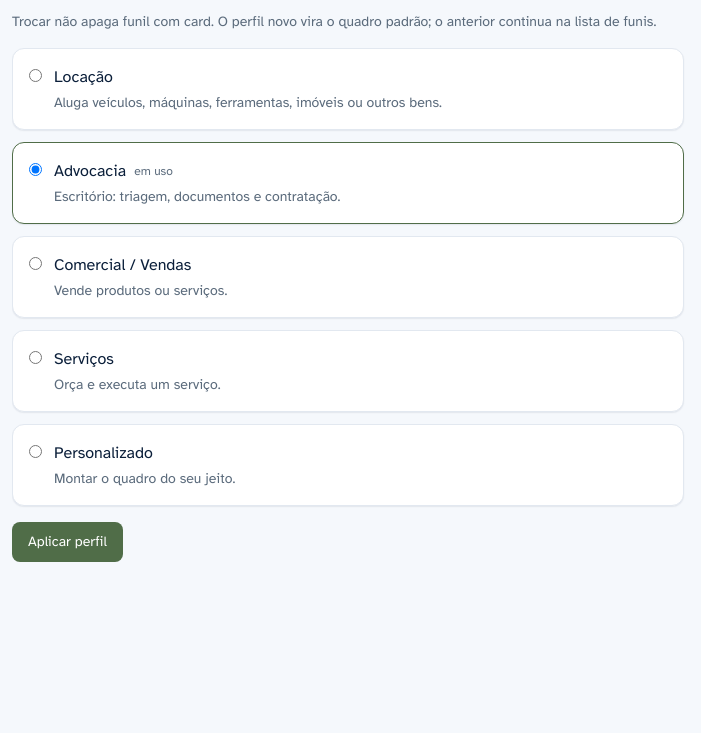
troca de Ready Model › quando o funil do modelo já existe, diz isso
Click the radio button labelled "Comercial / Vendas Vende produtos ou serviços.": [36, 264] box [29,257,42,270]
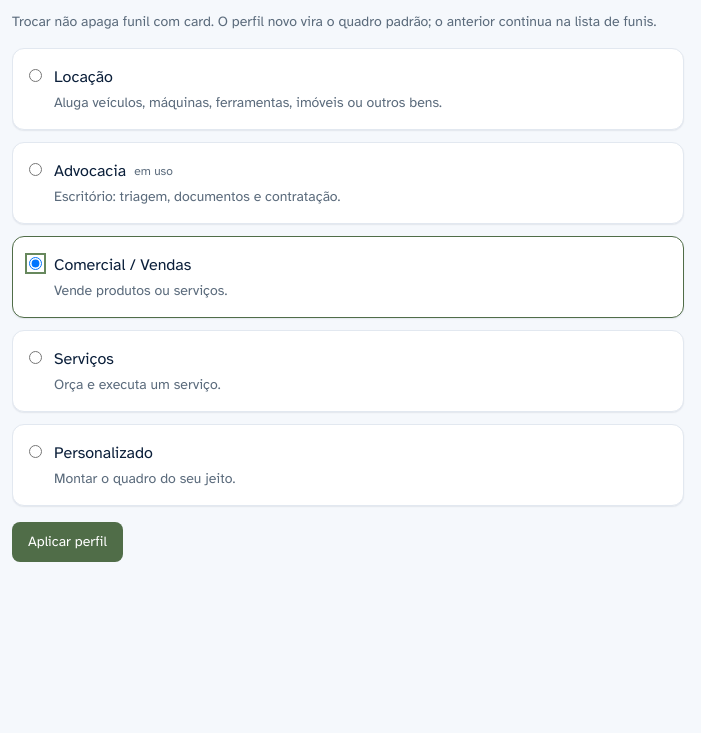
Click the button with test id "aplicar-perfil": [67, 542] box [12,522,123,562]
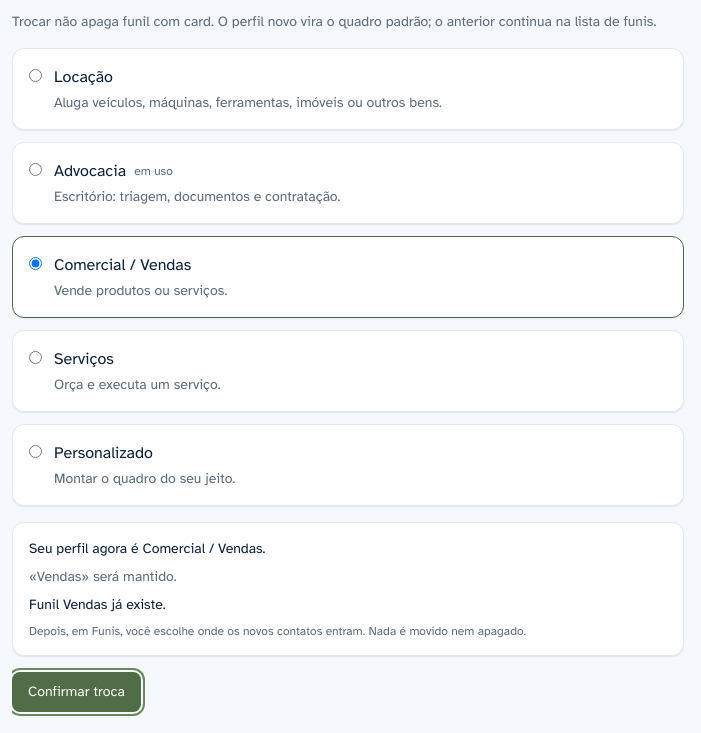
Check: the element with test id "confirmar-troca-de-perfil" shows "Funil Vendas já existe", box [29,596,166,613]
